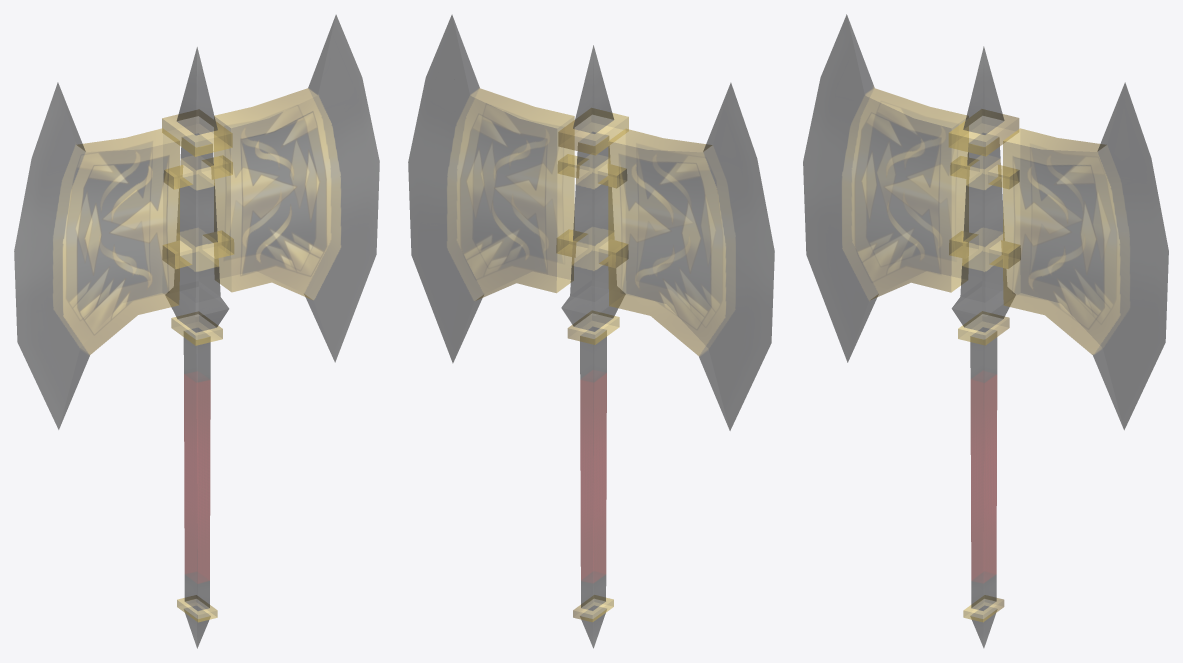
File: SipiritAxe_NoAnim.fbx
The picture shows the model from 3 angles, left to right: view 1: azimuth 30°, elevation 25°; view 2: azimuth 150°, elevation 25°; view 3: azimuth 330°, elevation 25°; orthographic projection.
Parts seen in each view (by area): view 1: KC_SpiritAxe; view 2: KC_SpiritAxe; view 3: KC_SpiritAxe.
Boxes of the visible parts, bbox=[...] form: KC_SpiritAxe: bbox=[14, 15, 379, 648]; KC_SpiritAxe: bbox=[408, 15, 774, 648]; KC_SpiritAxe: bbox=[803, 14, 1168, 647].
Size of the model in its own units: 16.17 by 25.47 by 2.54.
Materials: 1 (1 with a texture image).
